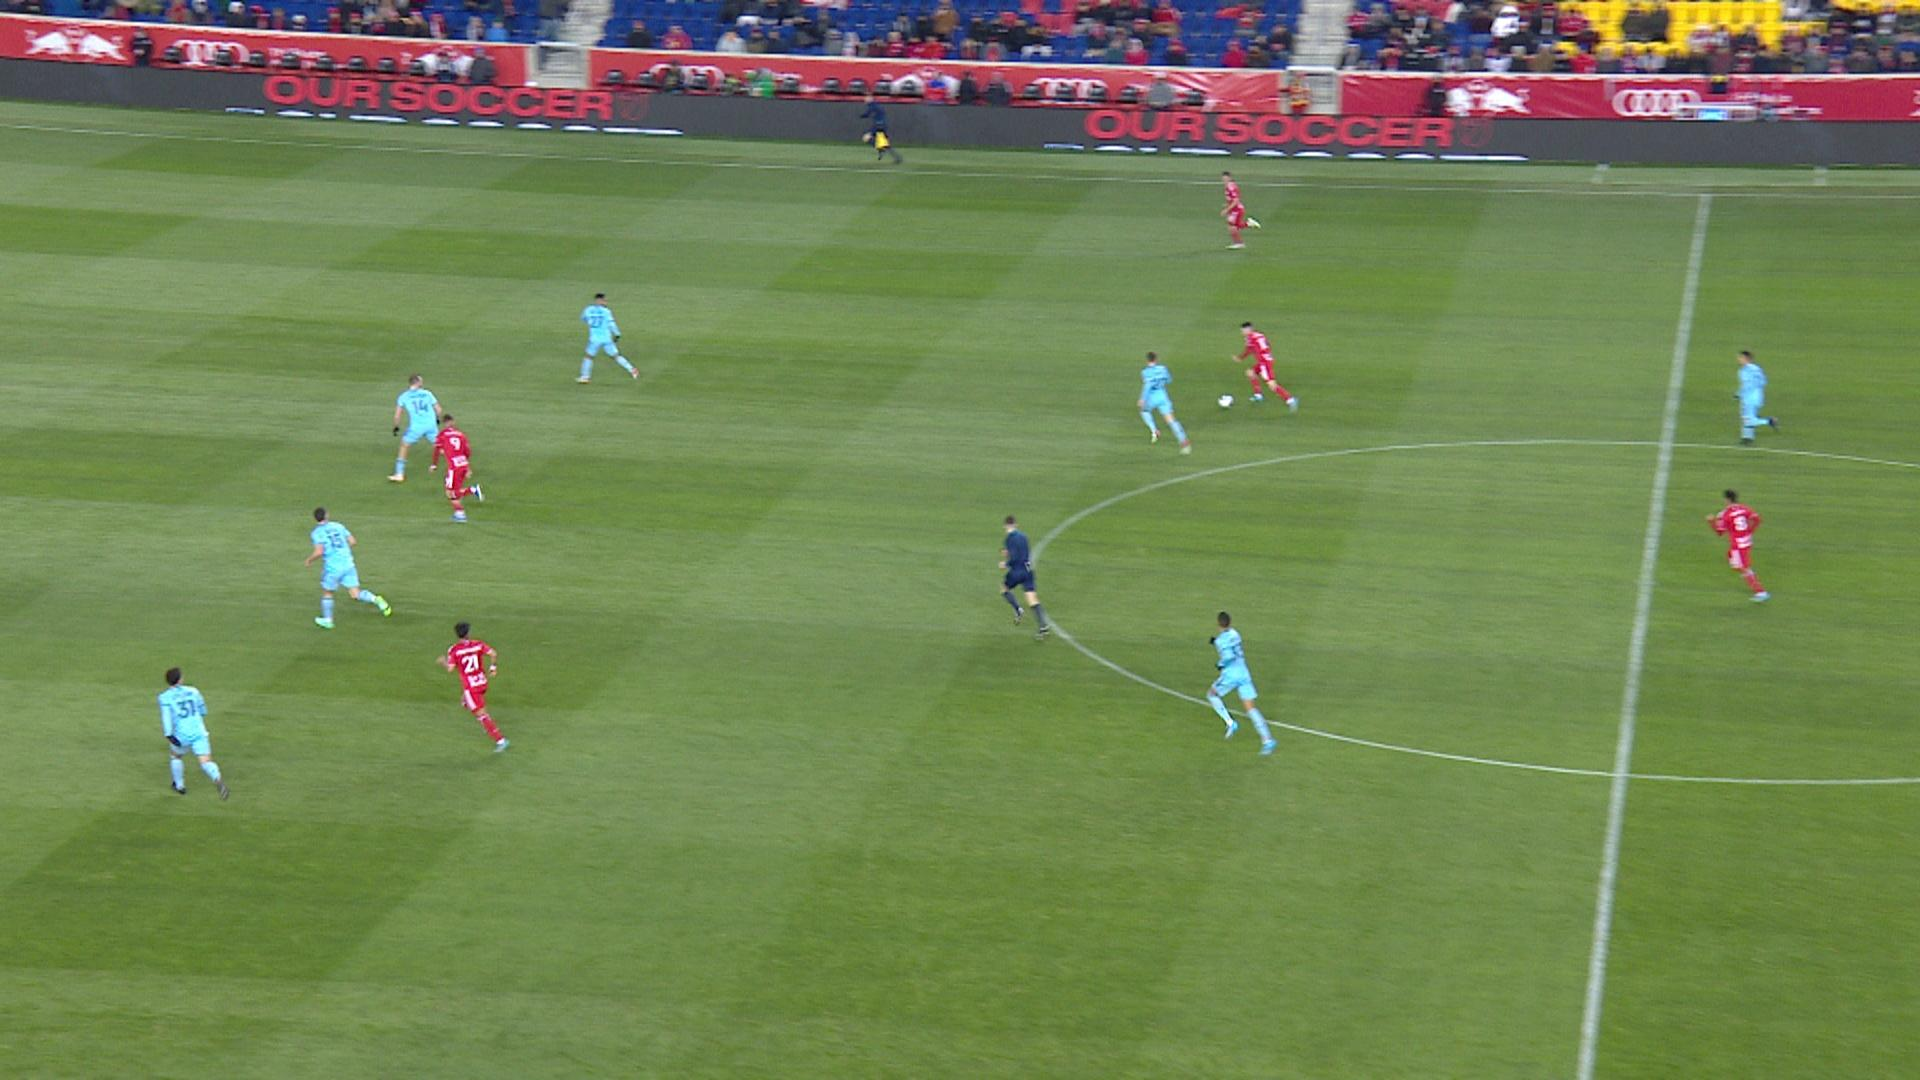football: (1218, 396, 1234, 409)
